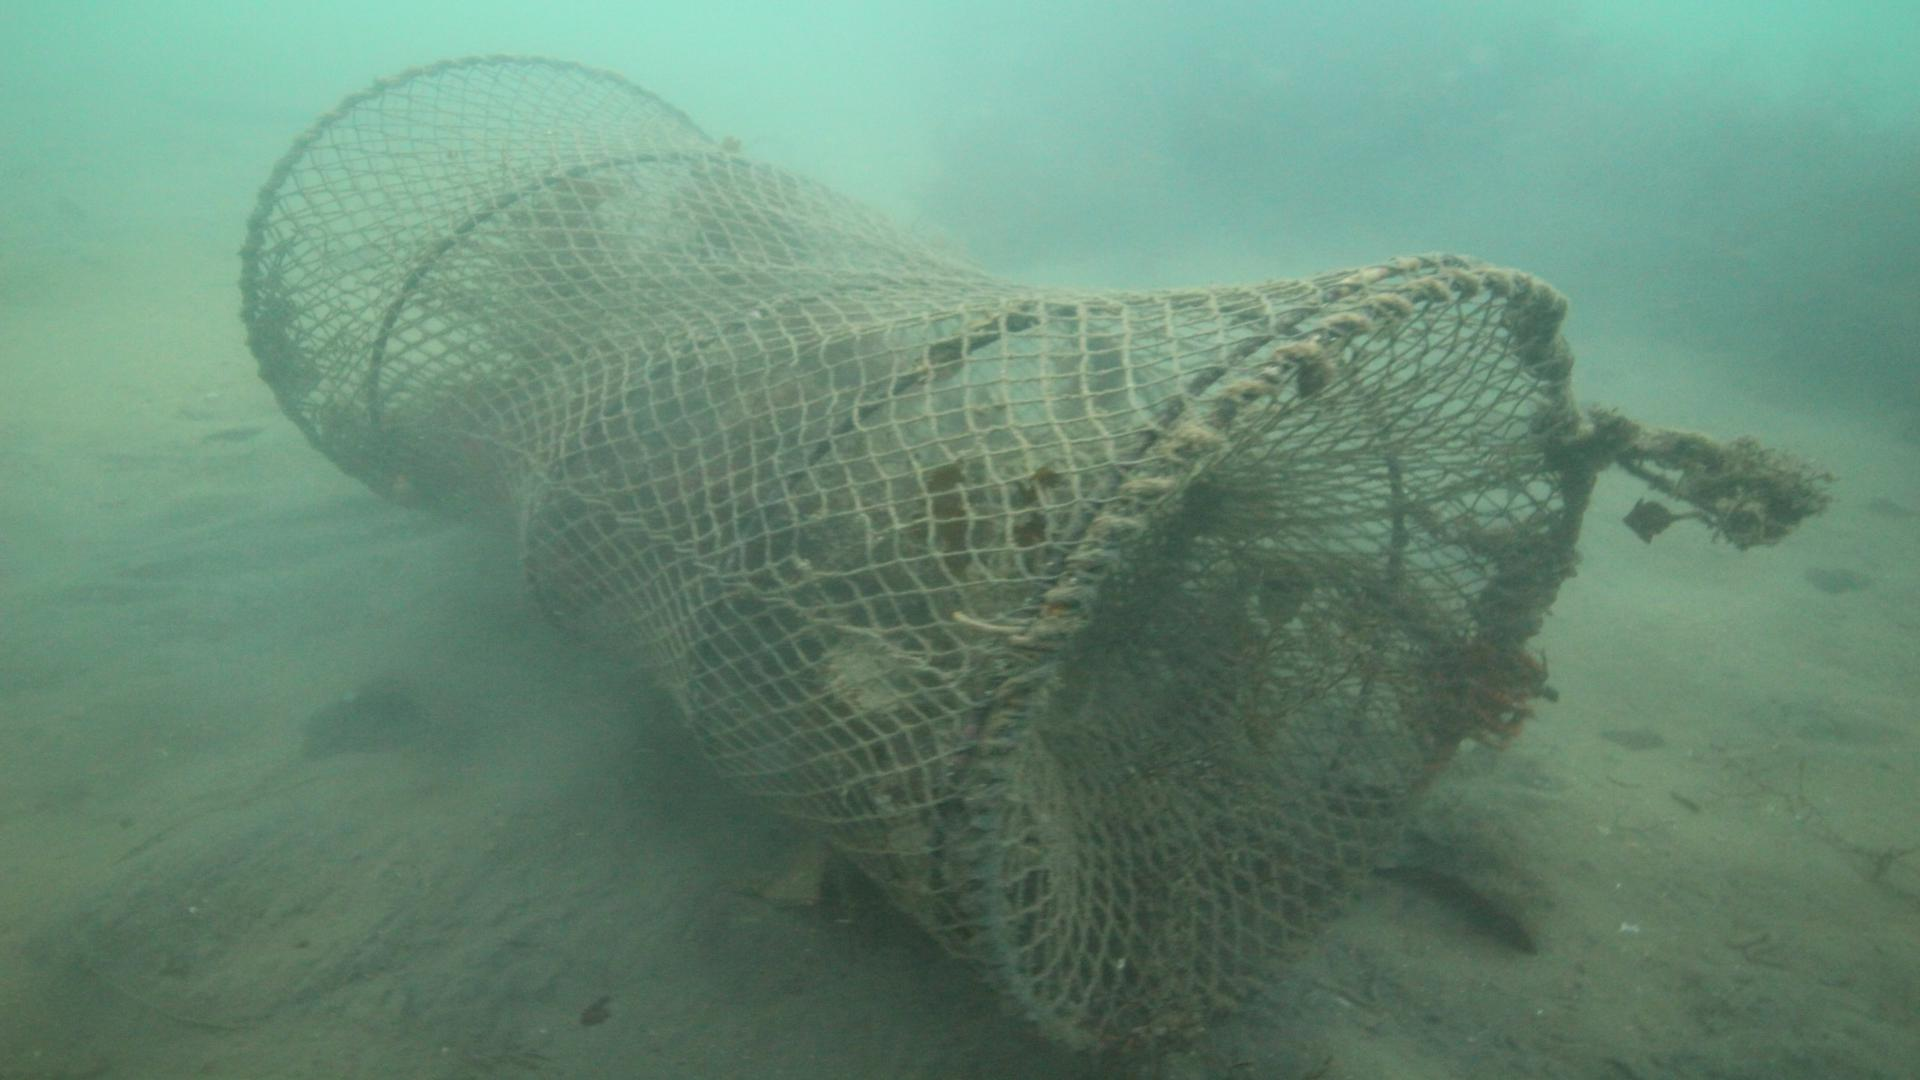spring fish trap: (233, 50, 1597, 1062)
